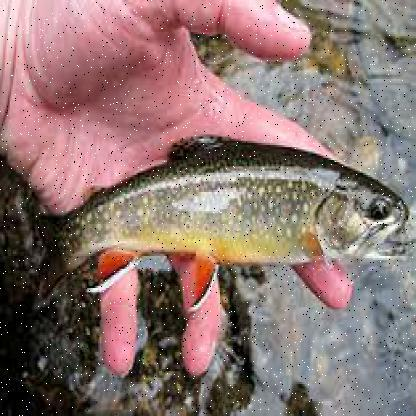fish: (20, 130, 412, 310)
